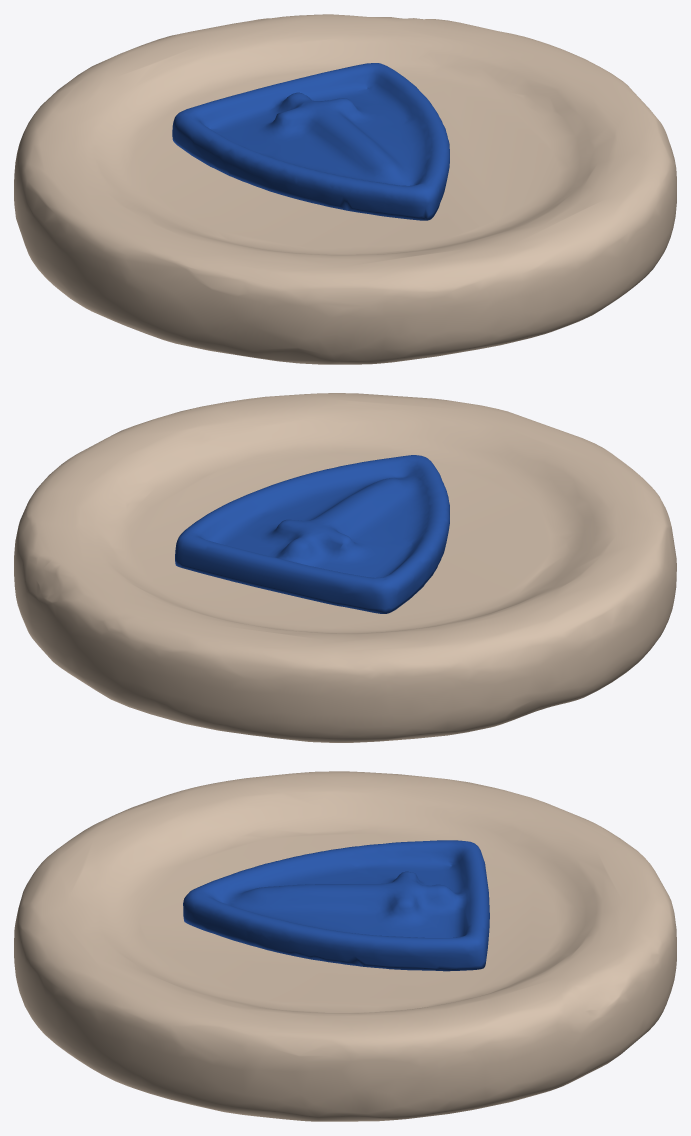
Rendered from token-warrior-red-draco.glb.
3 views of the same model, one above another, from view 1: azimuth 30°, elevation 25°; view 2: azimuth 150°, elevation 25°; view 3: azimuth 270°, elevation 25° (orthographic).
Parts seen in each view (by area): view 1: token_warrior_red; view 2: token_warrior_red; view 3: token_warrior_red.
Boxes of the visible parts, left/top/right/bottom form: token_warrior_red: left=14, top=14, right=676, bottom=364; token_warrior_red: left=14, top=393, right=676, bottom=742; token_warrior_red: left=14, top=771, right=676, bottom=1121.
Bounding box in the file's own units: 0.4141 × 0.0746 × 0.4142.
